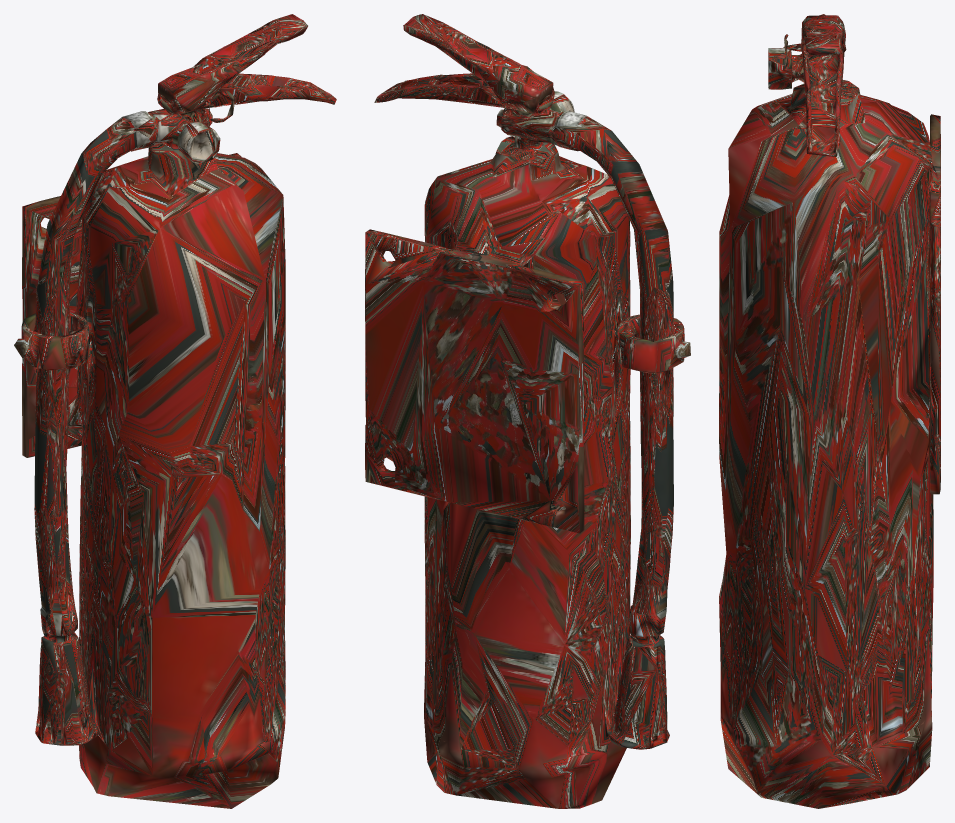
File: fire_extinguisher.03100e82f2.glb
3 renders of one model, left to right at view 1: azimuth 30°, elevation 25°; view 2: azimuth 150°, elevation 25°; view 3: azimuth 270°, elevation 25°, orthographic. The views are drawn at different scales.
Visible parts, largest first — view 1: fire_extinguisher; view 2: fire_extinguisher; view 3: fire_extinguisher.
Part boxes in pixels (bbox=[...]): fire_extinguisher: bbox=[14, 14, 336, 808]; fire_extinguisher: bbox=[365, 14, 690, 808]; fire_extinguisher: bbox=[719, 14, 940, 808].
Size of the model in its own units: 0.2747 by 0.6185 by 0.1589.
1 material, 1 textured.
